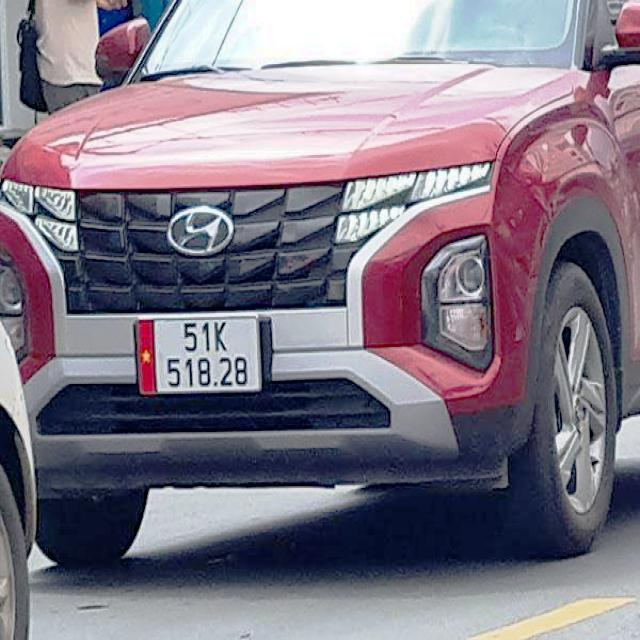license_plate: (135, 315, 267, 397)
